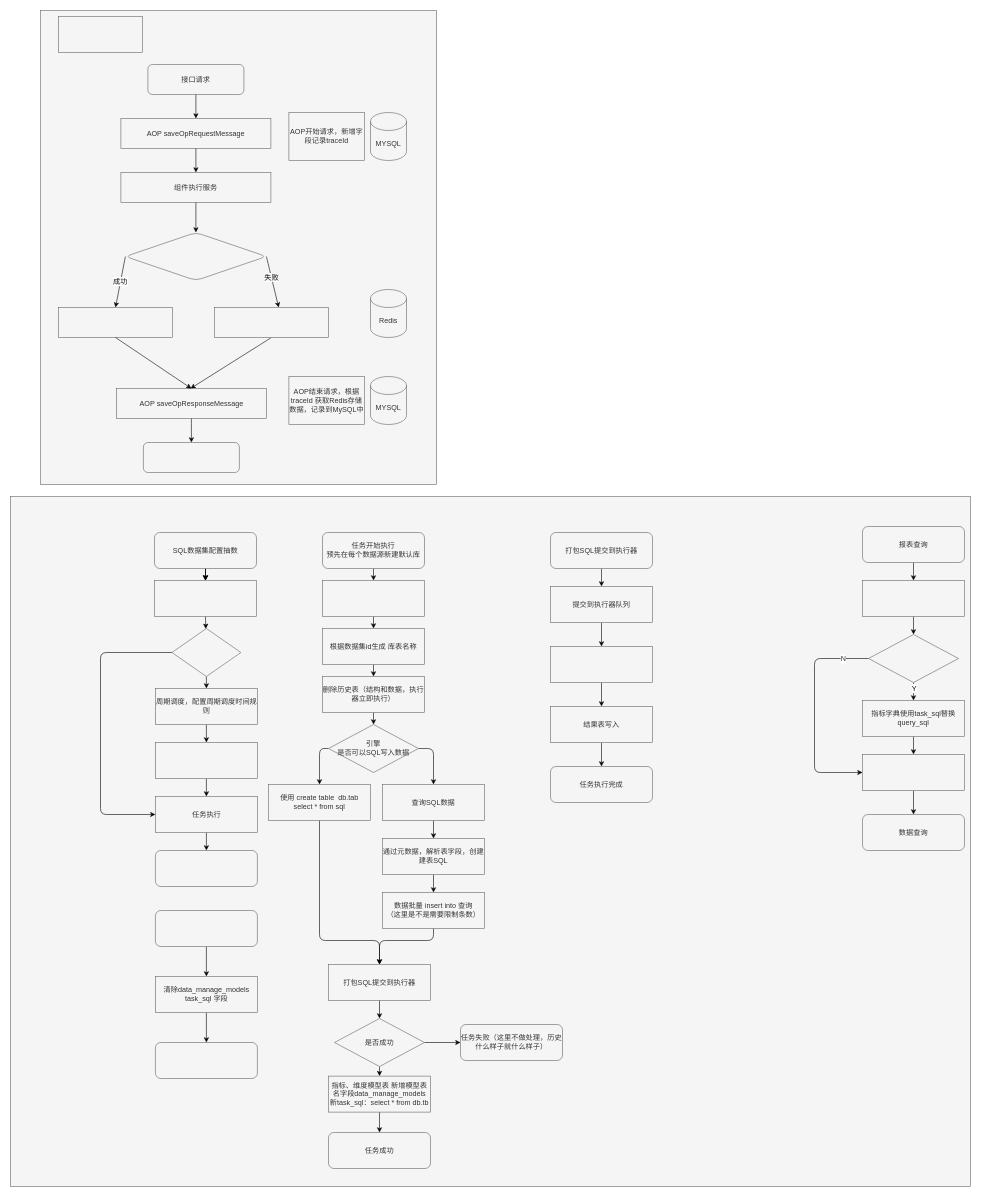
This 981x1197 diagram has some shape labels left out. The shapes that lost their labels are listed below. From the top down, each one's centre as x and y in pixels, then its label:
[100,34]: 处理 trace 记录相关日志
[195,256]: 请求OneServer
[115,322]: 记录traceId 和 taskId 关系
[271,322]: 根据记录traceId 和 code、request、 taskId
[191,457]: 结束
[205,598]: 配置调度策略
[373,598]: 获取SQL 和 数据源
[913,598]: OS数据查询
[206,652]: 即时或者周期
[601,664]: 队列获取执行
[913,658]: data_manage_models 判断是否有task_sql
[206,760]: 规则调度执行
[913,772]: OS 使用 query_sql组装SQL
[206,868]: 抽数任务提交完成
[206,928]: SQL数据集支持清除任务
[206,1060]: 清理完成
